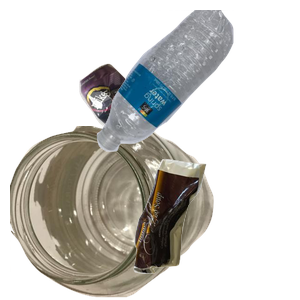glass: (10, 126, 216, 300)
metal: (77, 61, 222, 191)
plastic: (94, 10, 300, 154)
trash: (131, 157, 300, 300)
